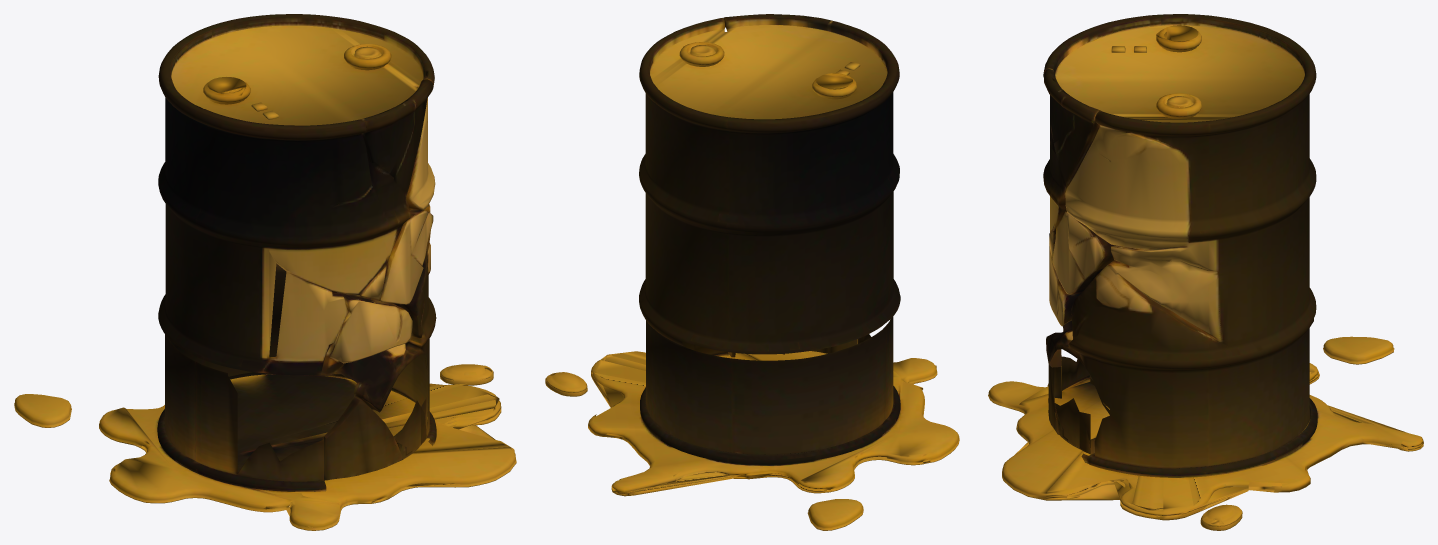
File: smashed_oil_barrel_6a965a03_v1.glb
3 views of the same model, side by side, from view 1: azimuth 30°, elevation 25°; view 2: azimuth 150°, elevation 25°; view 3: azimuth 270°, elevation 25° (orthographic). The views are drawn at different scales.
Visible parts, largest first — view 1: material; view 2: material; view 3: material.
Boxes of the visible parts, <box> form: material: <box>14,14,516,530</box>; material: <box>545,14,959,530</box>; material: <box>988,14,1423,530</box>.
Bounding box in the file's own units: 1.9 × 1.7 × 1.84.
1 material, 1 textured.
